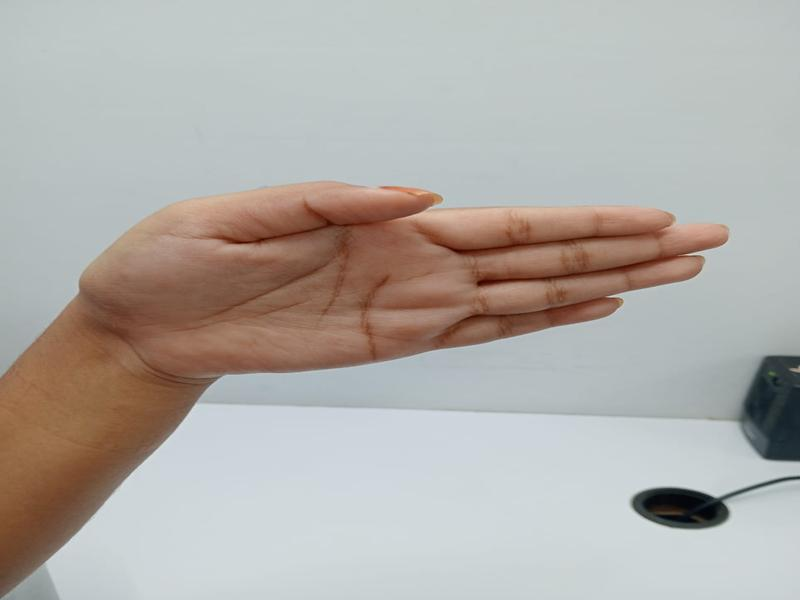DOWN: (1, 158, 748, 473)
